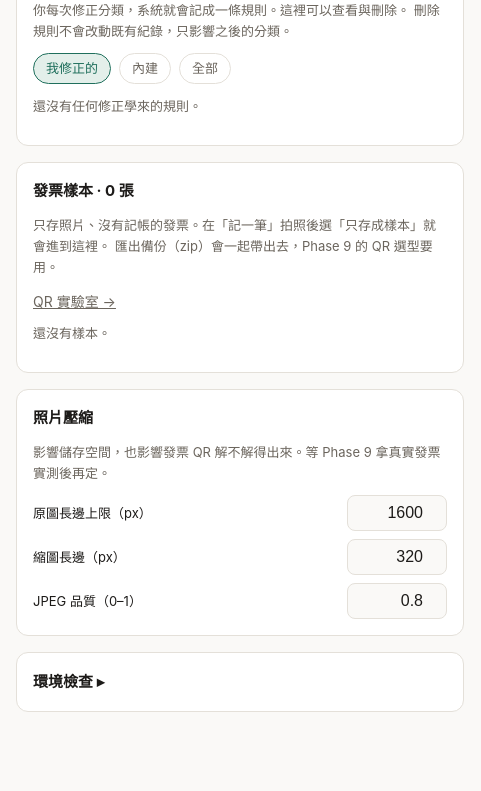
Test: 設定頁：既有行為 › 刪除我修正的規則
(page scrolled)
Step 1. Click the button "環境檢查 ▸" → (69,682), box x1=33 y1=670 x2=104 y2=694
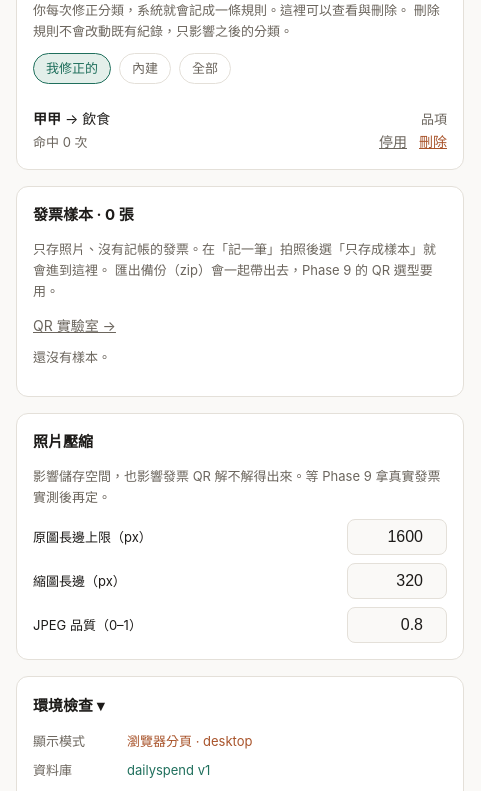
Expected: the text "dailyspend v1" is shown, x1=127 y1=762 x2=210 y2=778
Expected: the text "甲甲" is shown, x1=33 y1=110 x2=61 y2=127
Step 2. Click the button "刪除" → (433,142), box x1=419 y1=131 x2=447 y2=153
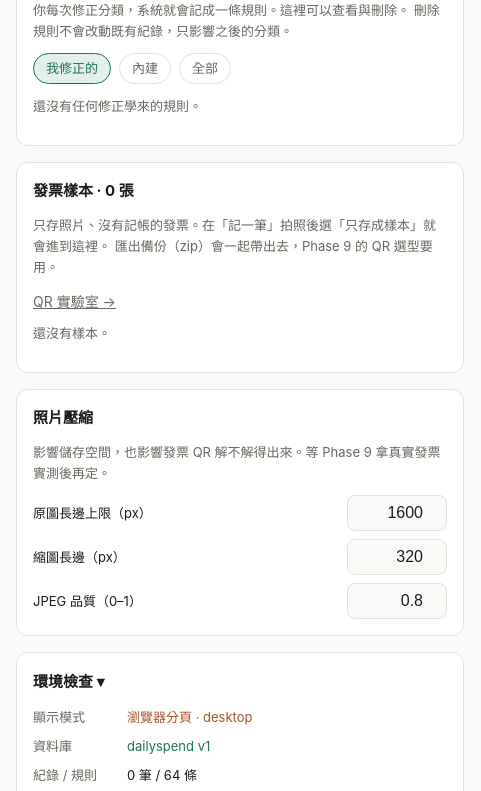
Expected: the text "還沒有任何修正學來的規則。" is shown, x1=33 y1=98 x2=202 y2=114
